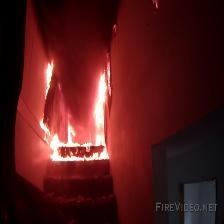fire: (42, 54, 125, 166)
